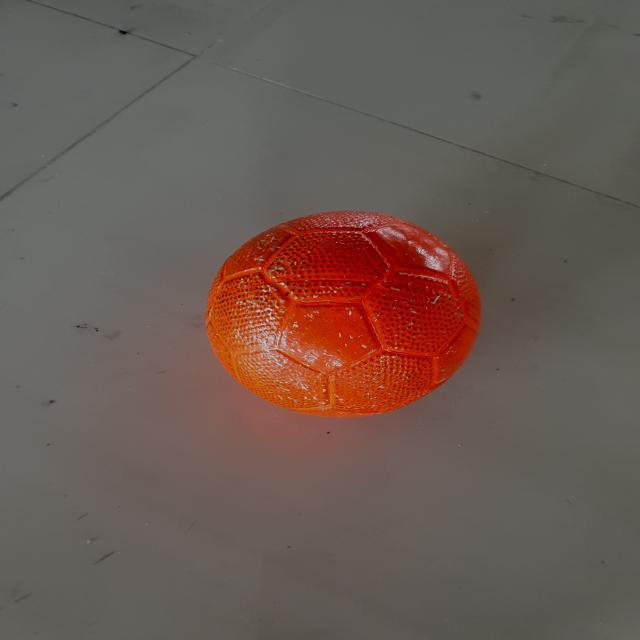bola: (193, 199, 493, 427)
